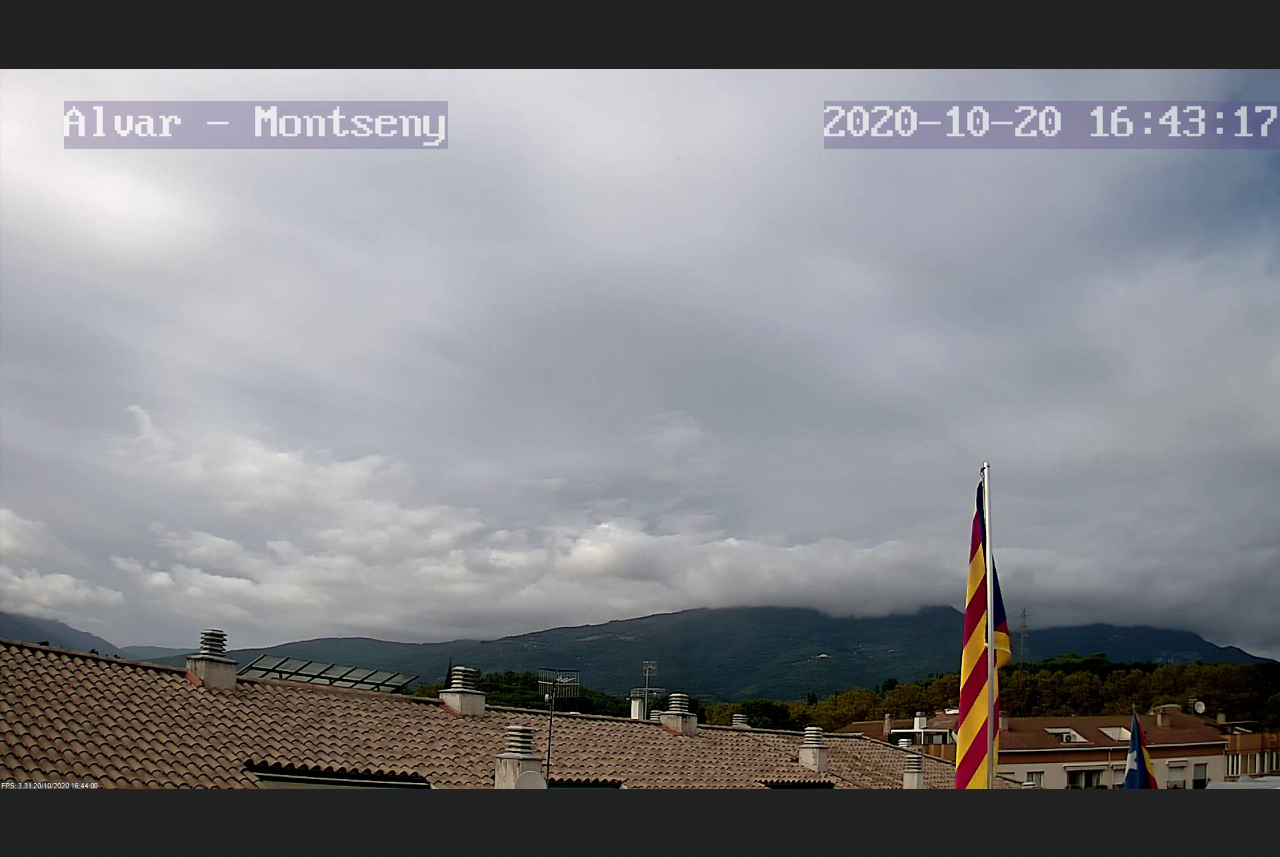no: (956, 481, 1011, 786)
